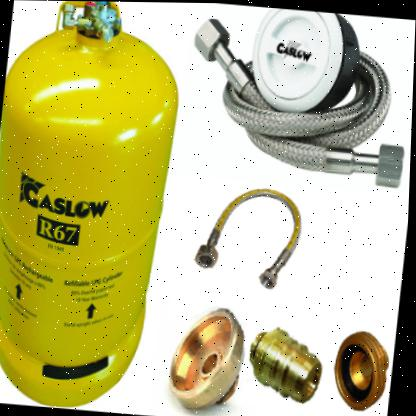gas-tank: (0, 0, 199, 415)
